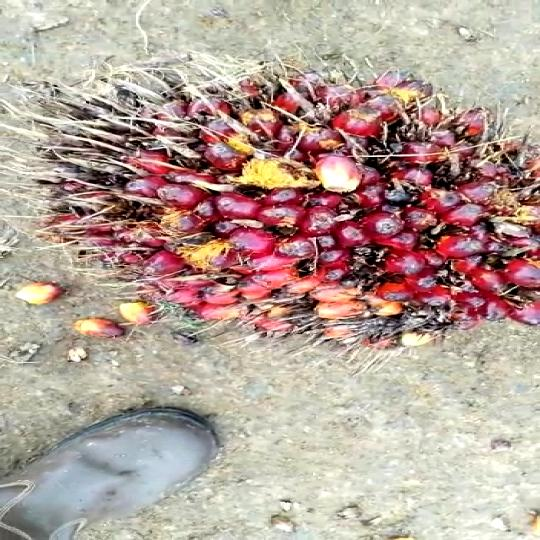masak: (10, 61, 540, 356)
